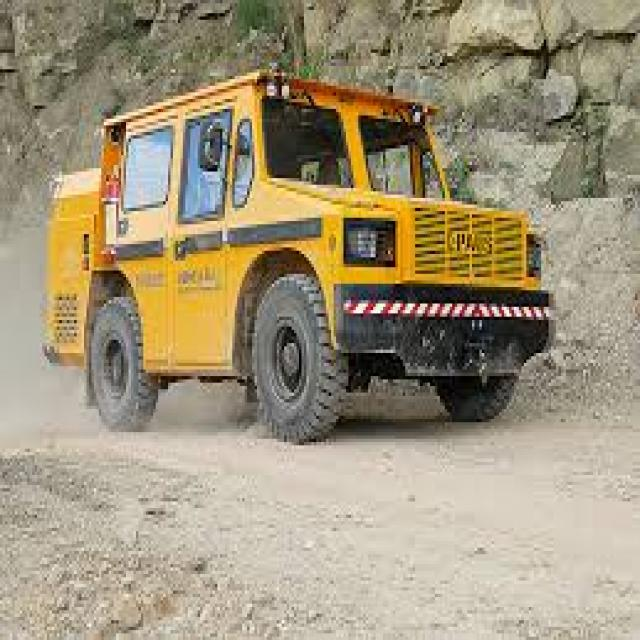light_vehicle: (64, 56, 578, 459)
